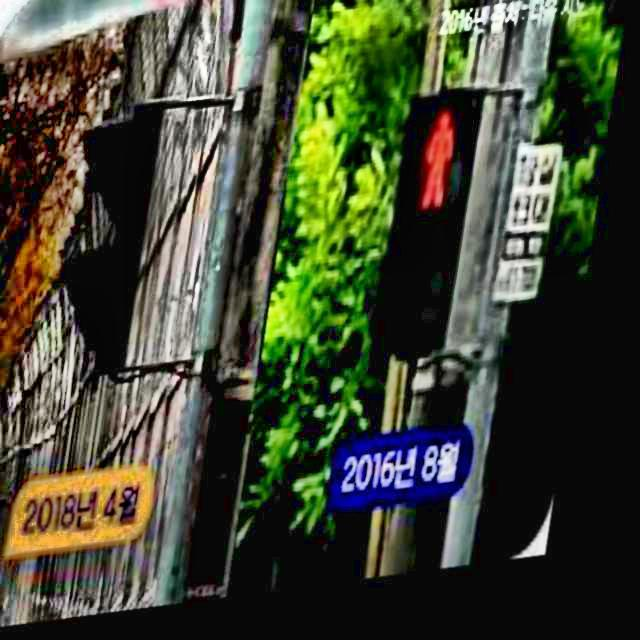semaforo pedestre: (337, 62, 558, 446), (4, 64, 243, 418)
